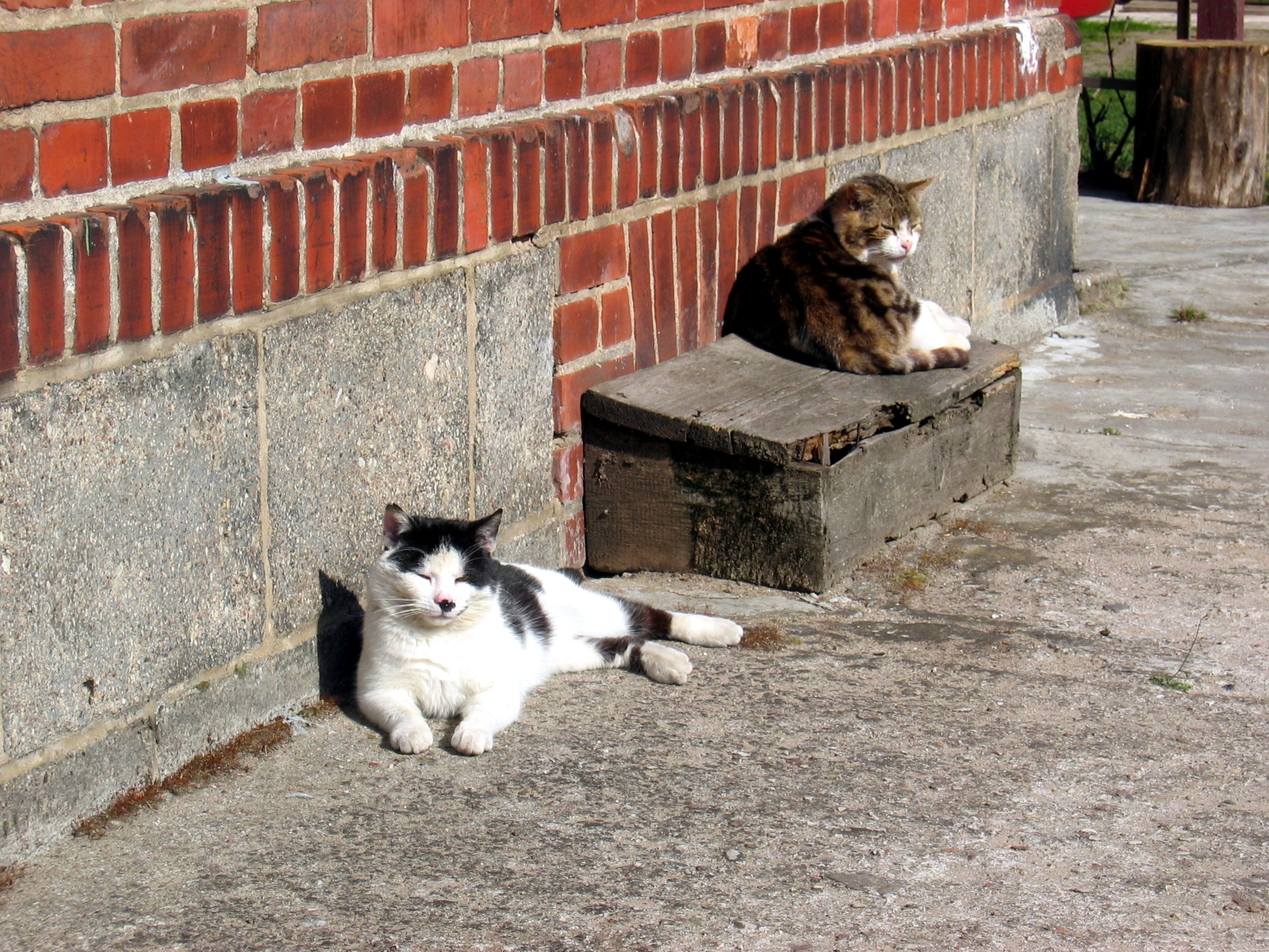cat: (349, 506, 742, 758), (729, 177, 976, 377)
